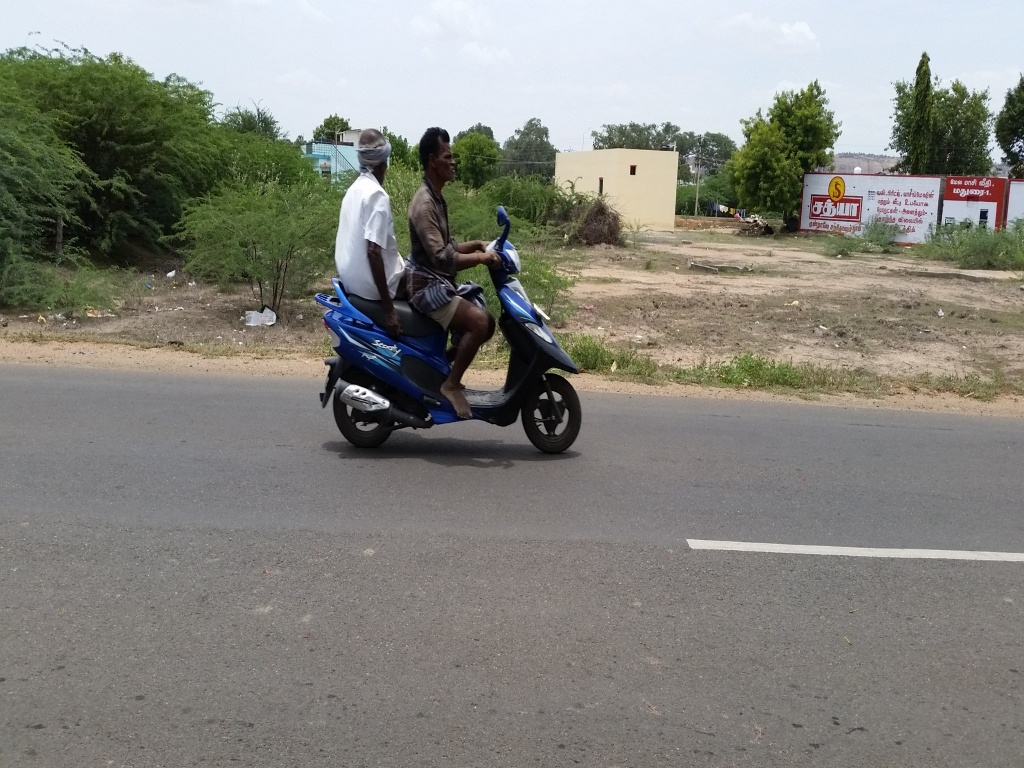biker: (287, 85, 615, 472)
nohelmet: (410, 118, 466, 197), (348, 111, 398, 192)
